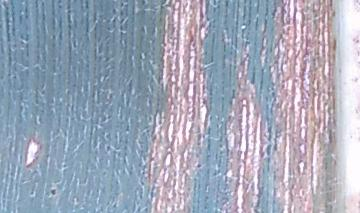tarspot: (50, 187, 58, 196), (196, 162, 202, 169)
